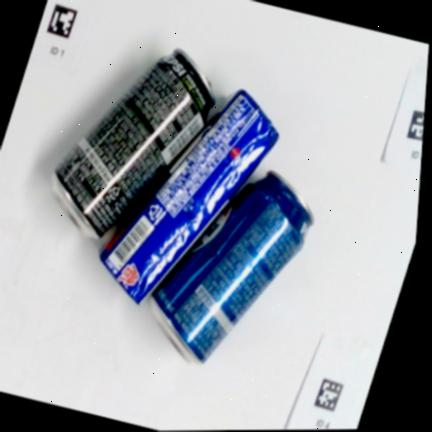can_pepsi: (151, 170, 313, 362)
can_pepsi_zero: (52, 48, 214, 237)
cracker_ace: (99, 88, 279, 305)
